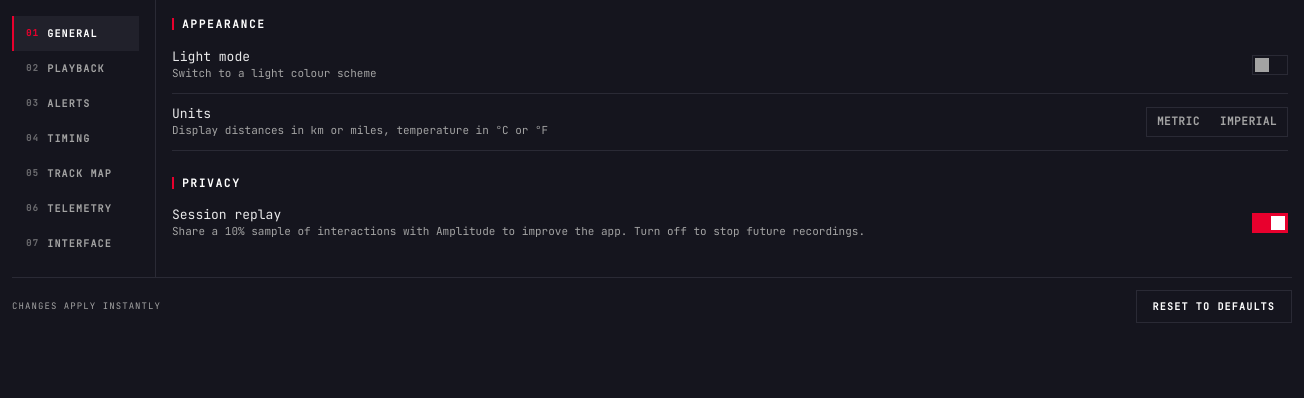
Test case: SettingsControls › shows one labelled settings category at a time
Expected: the text "Light mode" is shown, x1=172 y1=48 x2=250 y2=64
Expected: the text "Enable notifications" is not shown
Click the tab "03 Alerts" at [76, 104], box x1=12 y1=86 x2=139 y2=121
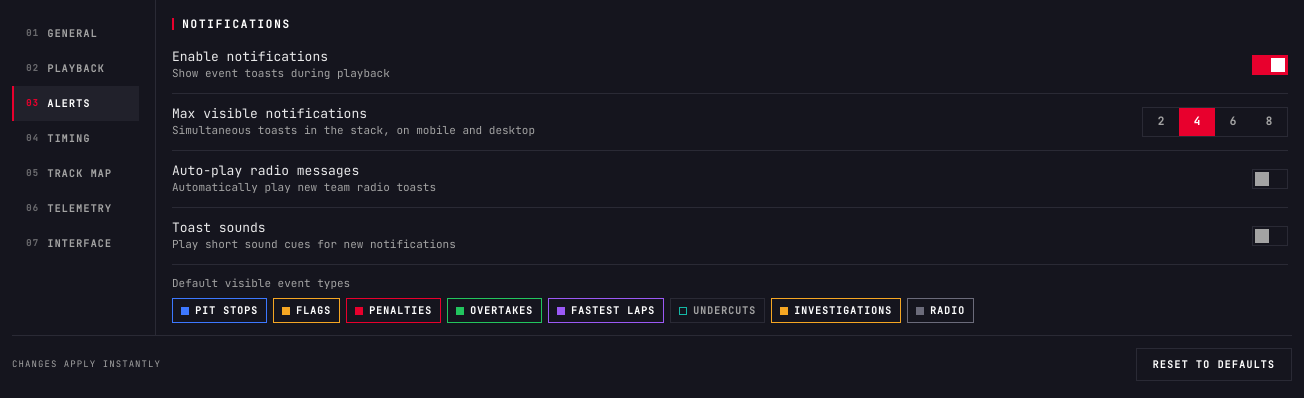
Expected: the text "Enable notifications" is shown, x1=172 y1=48 x2=328 y2=64
Expected: the text "Light mode" is gone
